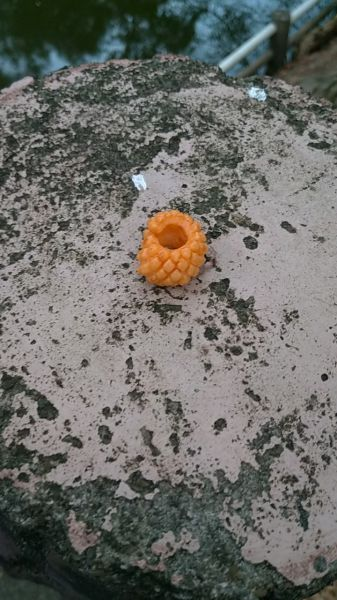eggs: (135, 205, 209, 291)
